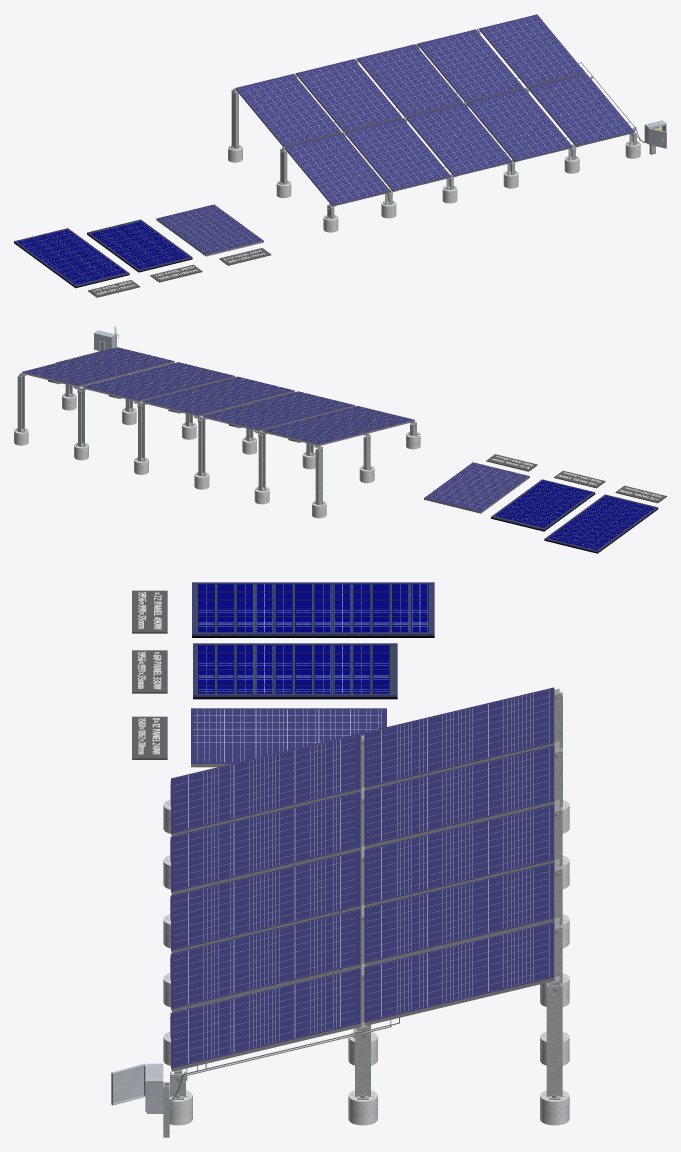
Rendered from -photovoltaic_panels.glb.
3 renders of one model, top to bottom at view 1: azimuth 30°, elevation 25°; view 2: azimuth 150°, elevation 25°; view 3: azimuth 270°, elevation 25°, orthographic. The views are drawn at different scales.
Visible parts, largest first — view 1: Material2 (×8), Material3 (×2); view 2: Material2 (×9), Material3 (×2); view 3: Material2 (×11), Material3 (×2).
Boxes of the visible parts, x1,y1,x2,y2 form: Material2 (×8): (14, 14, 661, 294); Material3 (×2): (88, 29, 659, 297); Material2 (×9): (14, 340, 662, 553); Material3 (×2): (21, 335, 666, 513); Material2 (×11): (111, 582, 569, 1137); Material3 (×2): (132, 590, 554, 1101).
Size of the model in its own units: 419 by 49.45 by 145.
Materials: 24 (8 with a texture image).
